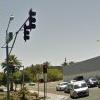traffic lights: (22, 20, 31, 42)
